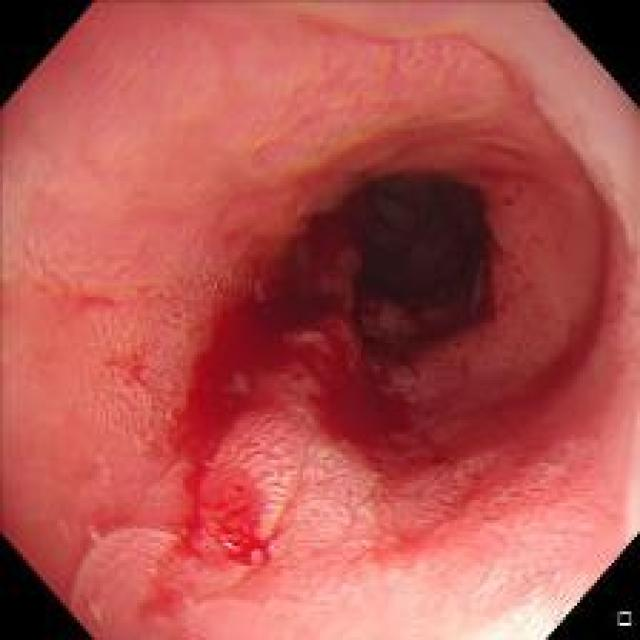blood: (180, 186, 439, 568)
bubbles: (81, 526, 102, 541), (264, 540, 280, 556), (209, 280, 222, 292)
contrast: (365, 174, 489, 315)
saturation: (368, 571, 575, 635)
specularity: (268, 541, 280, 554), (224, 539, 238, 549)
